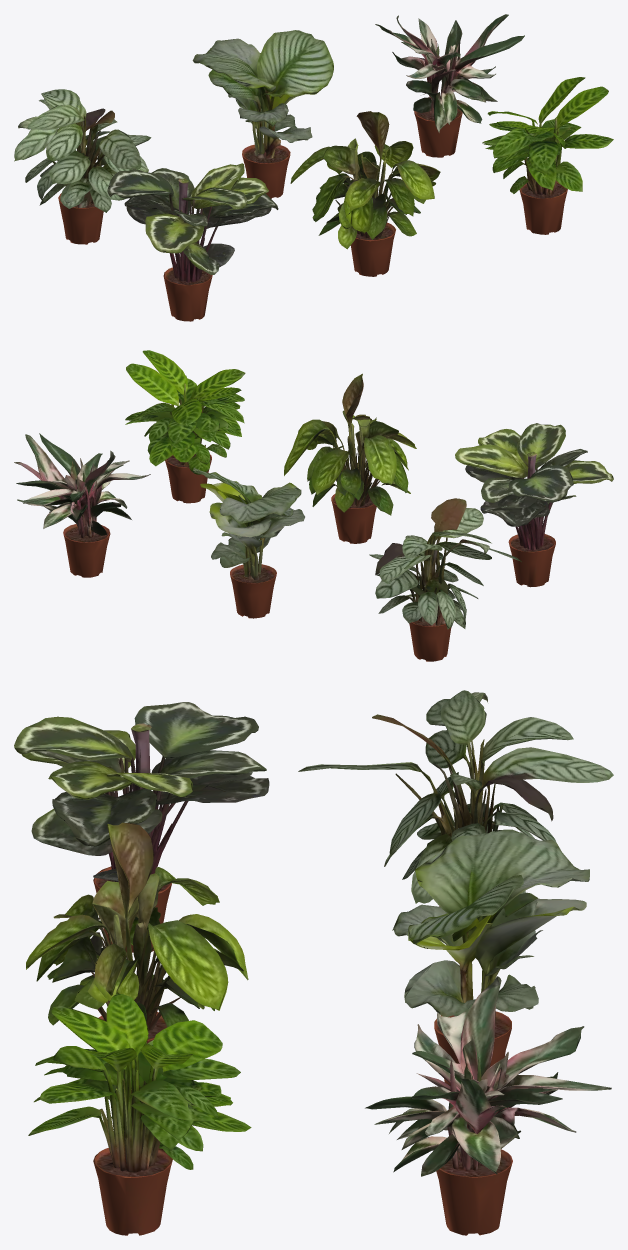
File: bladverk_roslina_doniczkowa_10598697.glb
3 views of the same model, one above another, from view 1: azimuth 30°, elevation 25°; view 2: azimuth 150°, elevation 25°; view 3: azimuth 270°, elevation 25° (orthographic). The views are drawn at different scales.
Visible parts, largest first — view 1: bladverk_roslina_doniczkowa_10598697; view 2: bladverk_roslina_doniczkowa_10598697; view 3: bladverk_roslina_doniczkowa_10598697.
Boxes of the visible parts, left/top/right/bottom form: bladverk_roslina_doniczkowa_10598697: left=14, top=14, right=613, bottom=321; bladverk_roslina_doniczkowa_10598697: left=14, top=350, right=613, bottom=661; bladverk_roslina_doniczkowa_10598697: left=14, top=690, right=613, bottom=1235.
Bounding box in the file's own units: 1.67 × 0.5185 × 1.06.
1 material, 1 textured.
